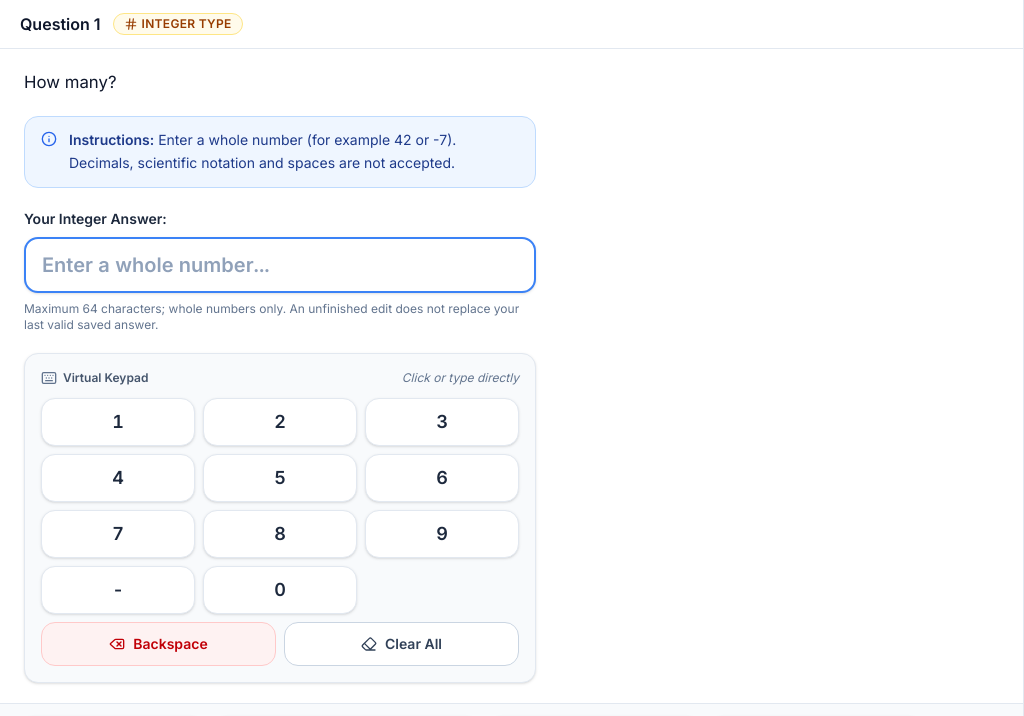
Test: QuestionPanel new question types › integer questions use a keypad without a decimal point and keep only whole numbers
This screenshot has width=1024, height=716.
Expected: the text "INTEGER TYPE" is shown, [113, 13, 243, 35]
Click the button "-" at (118, 590), box [41, 566, 195, 614]
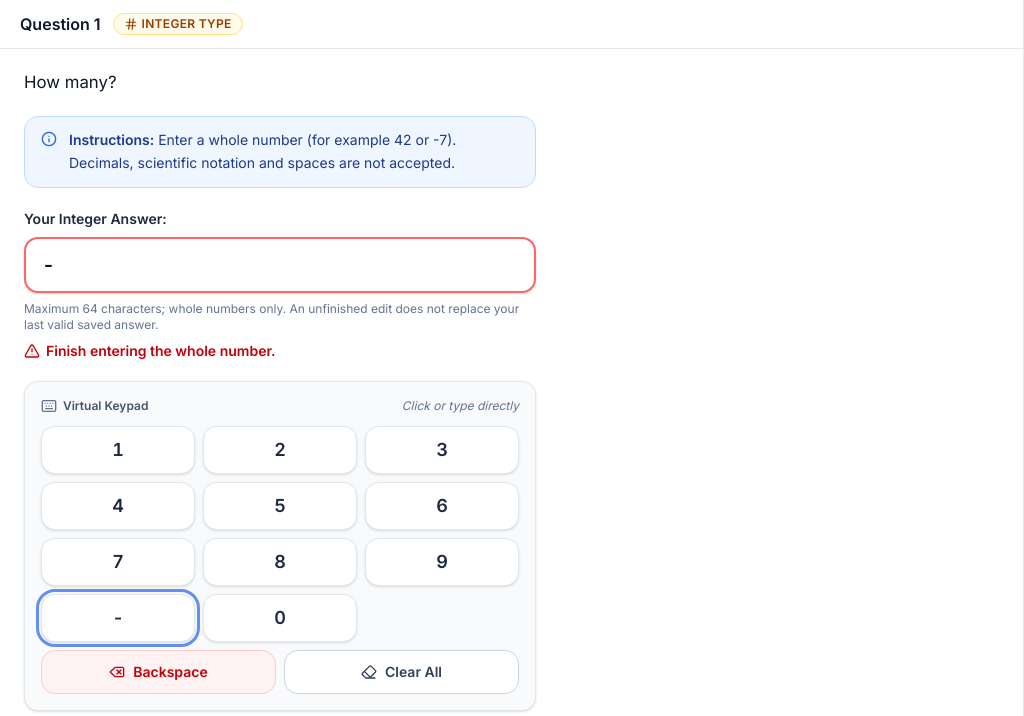
Click the button "1" at (118, 450), box [41, 426, 195, 474]
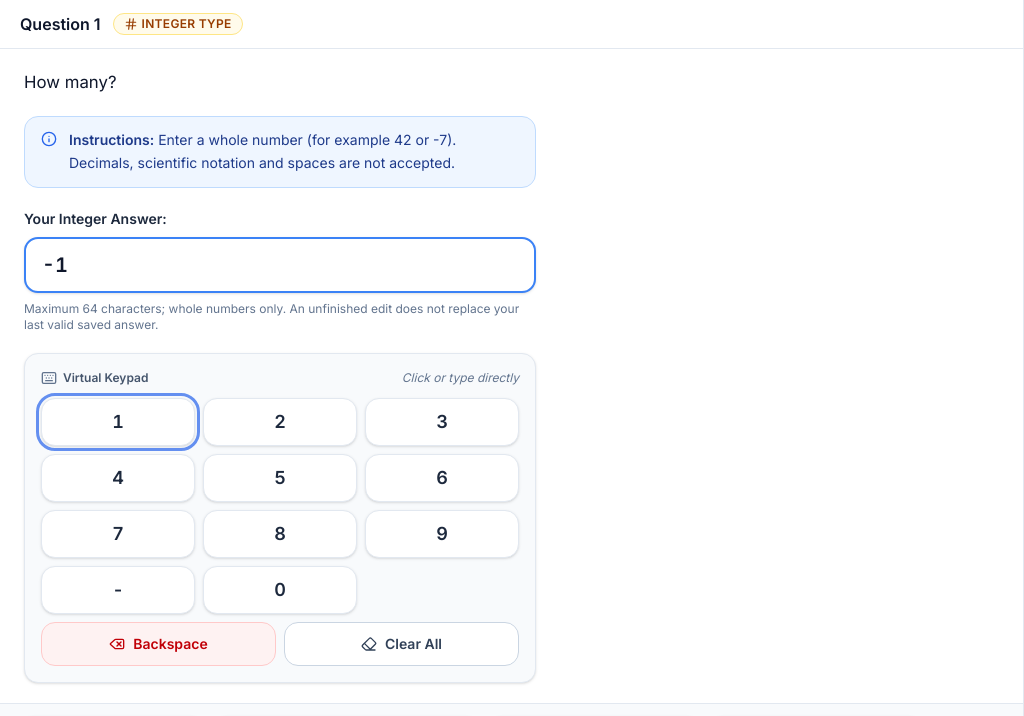
Click the button "2" at (280, 422), box [203, 398, 357, 446]
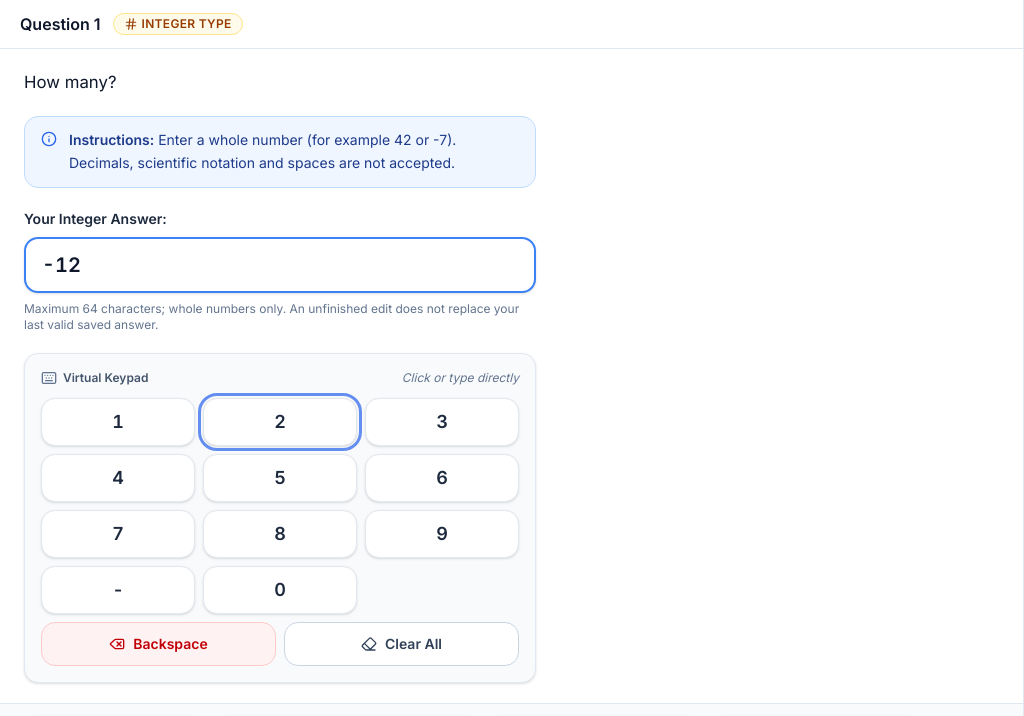
Replace the text in the field labelled "Your Integer Answer:" with "2.5" at (280, 265), box [24, 237, 536, 293]
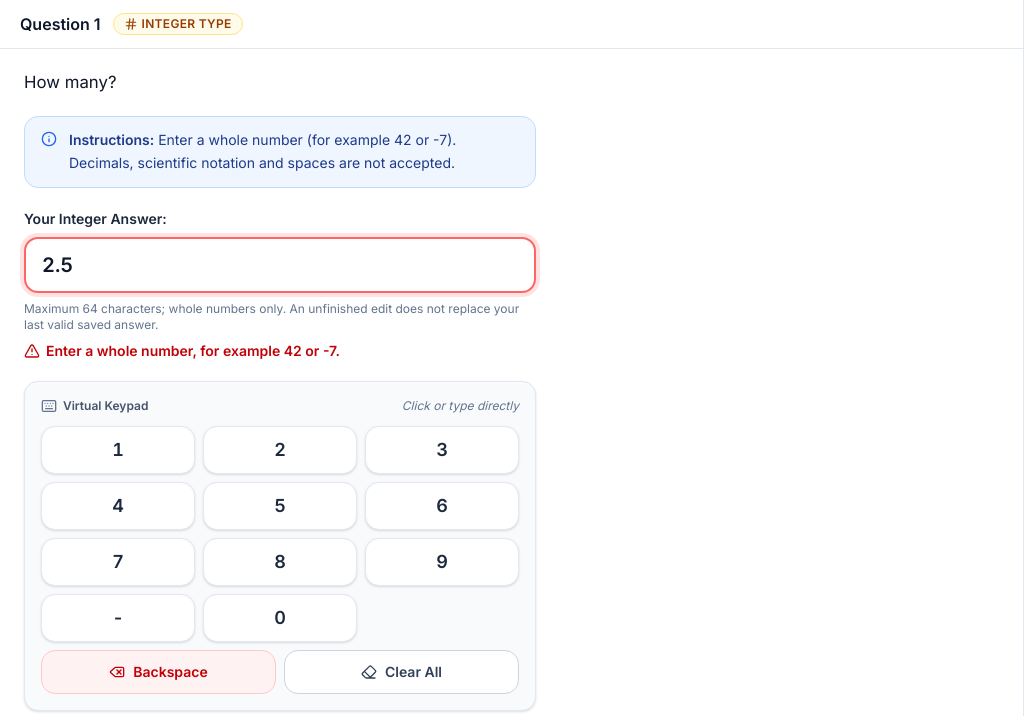
Expected: the message shows "whole number", [46, 342, 340, 359]
